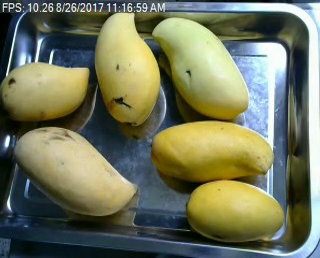Mango: (13, 126, 137, 216), (151, 16, 249, 120), (94, 12, 160, 125), (151, 121, 274, 181), (186, 181, 283, 241), (0, 63, 88, 121)
